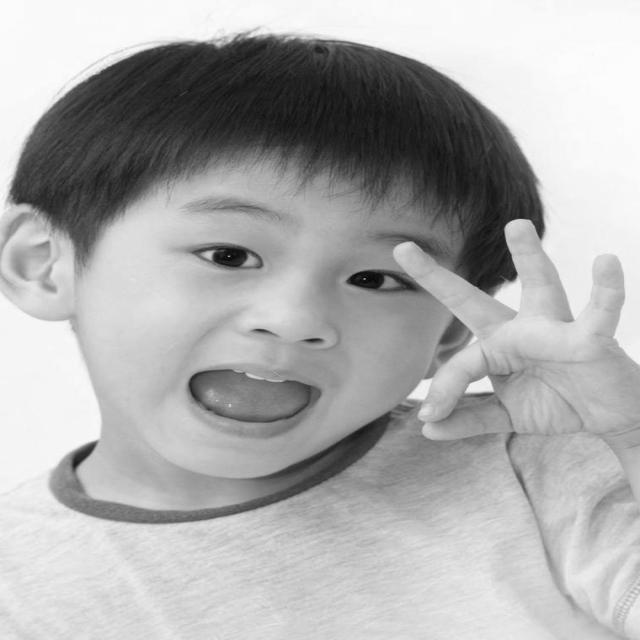perfect: (383, 210, 640, 446)
